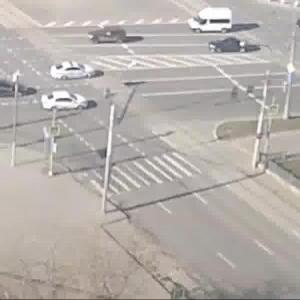car: (189, 7, 236, 33), (41, 91, 91, 112), (48, 62, 100, 82), (90, 28, 134, 46), (211, 39, 250, 55), (1, 82, 27, 98)
